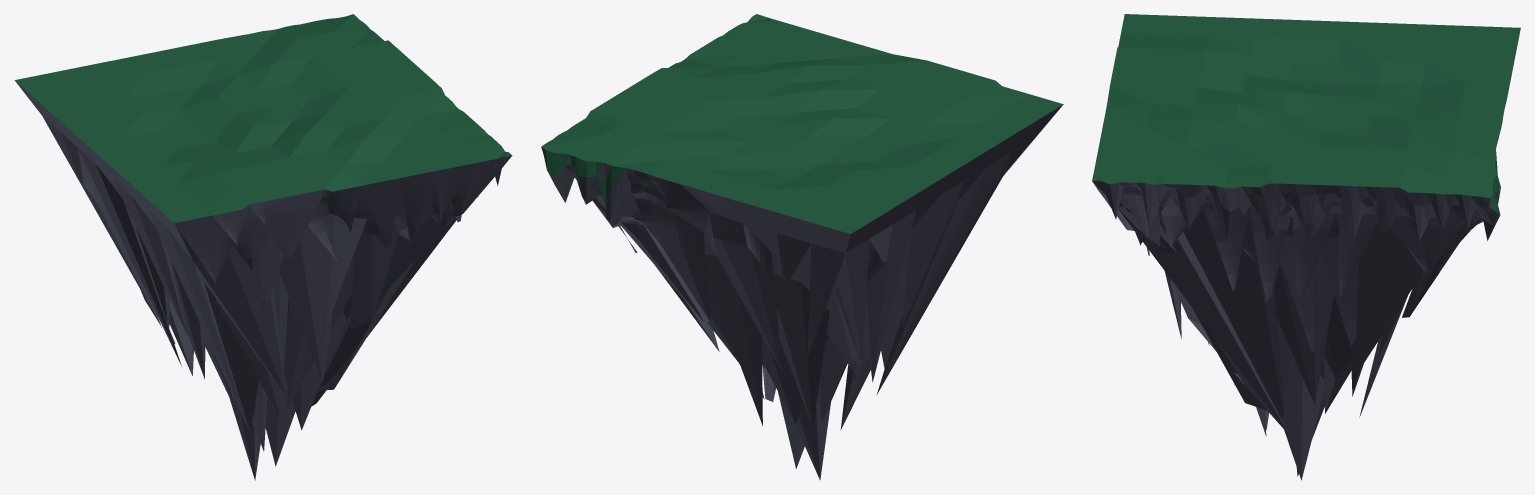
Rendered from floating_island_v4.fbx.
The picture shows the model from 3 angles, left to right: view 1: azimuth 30°, elevation 25°; view 2: azimuth 150°, elevation 25°; view 3: azimuth 270°, elevation 25°; orthographic projection. The views are drawn at different scales.
Parts seen in each view (by area): view 1: upside_down_pyramid.002; view 2: upside_down_pyramid.002; view 3: upside_down_pyramid.002.
Boxes of the visible parts, x1,y1,x2,y2 form: upside_down_pyramid.002: (14,14,512,480); upside_down_pyramid.002: (541,14,1063,480); upside_down_pyramid.002: (1092,14,1520,480).
Bounding box in the file's own units: 6496 × 6452 × 6473.
